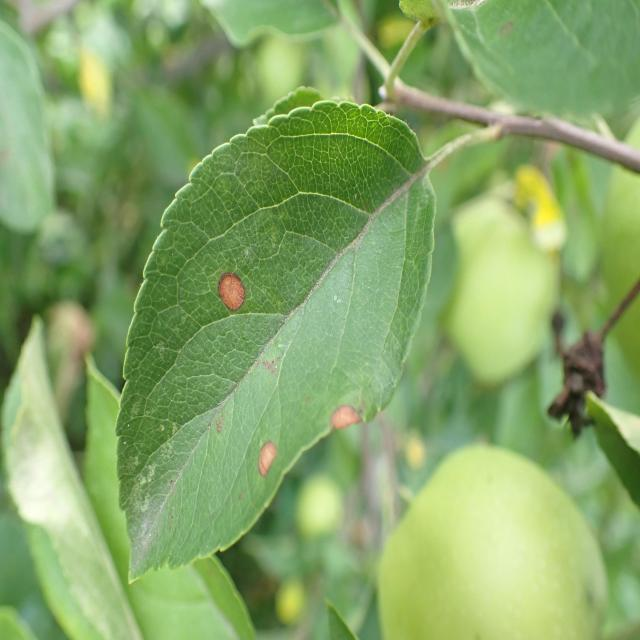Black Rot: (212, 266, 256, 338), (326, 395, 374, 448), (251, 428, 279, 491)
